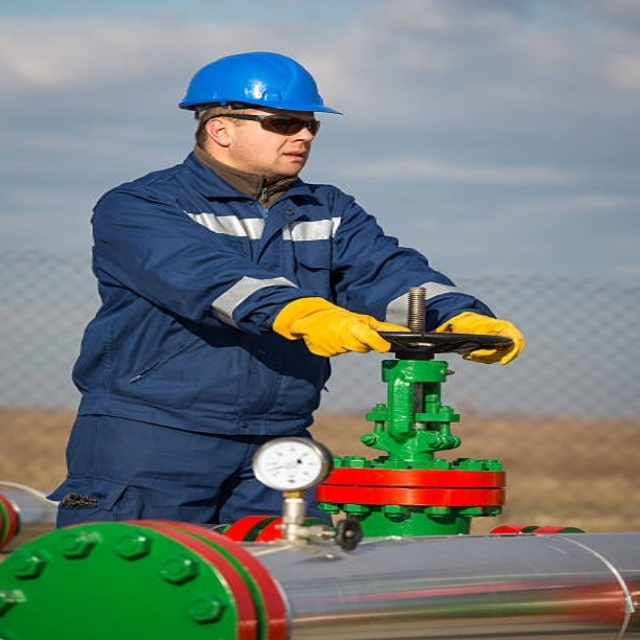Gafas: (205, 112, 321, 135)
Guantes: (273, 297, 411, 358), (433, 311, 524, 365)
Sin_mascara: (262, 144, 314, 169)
